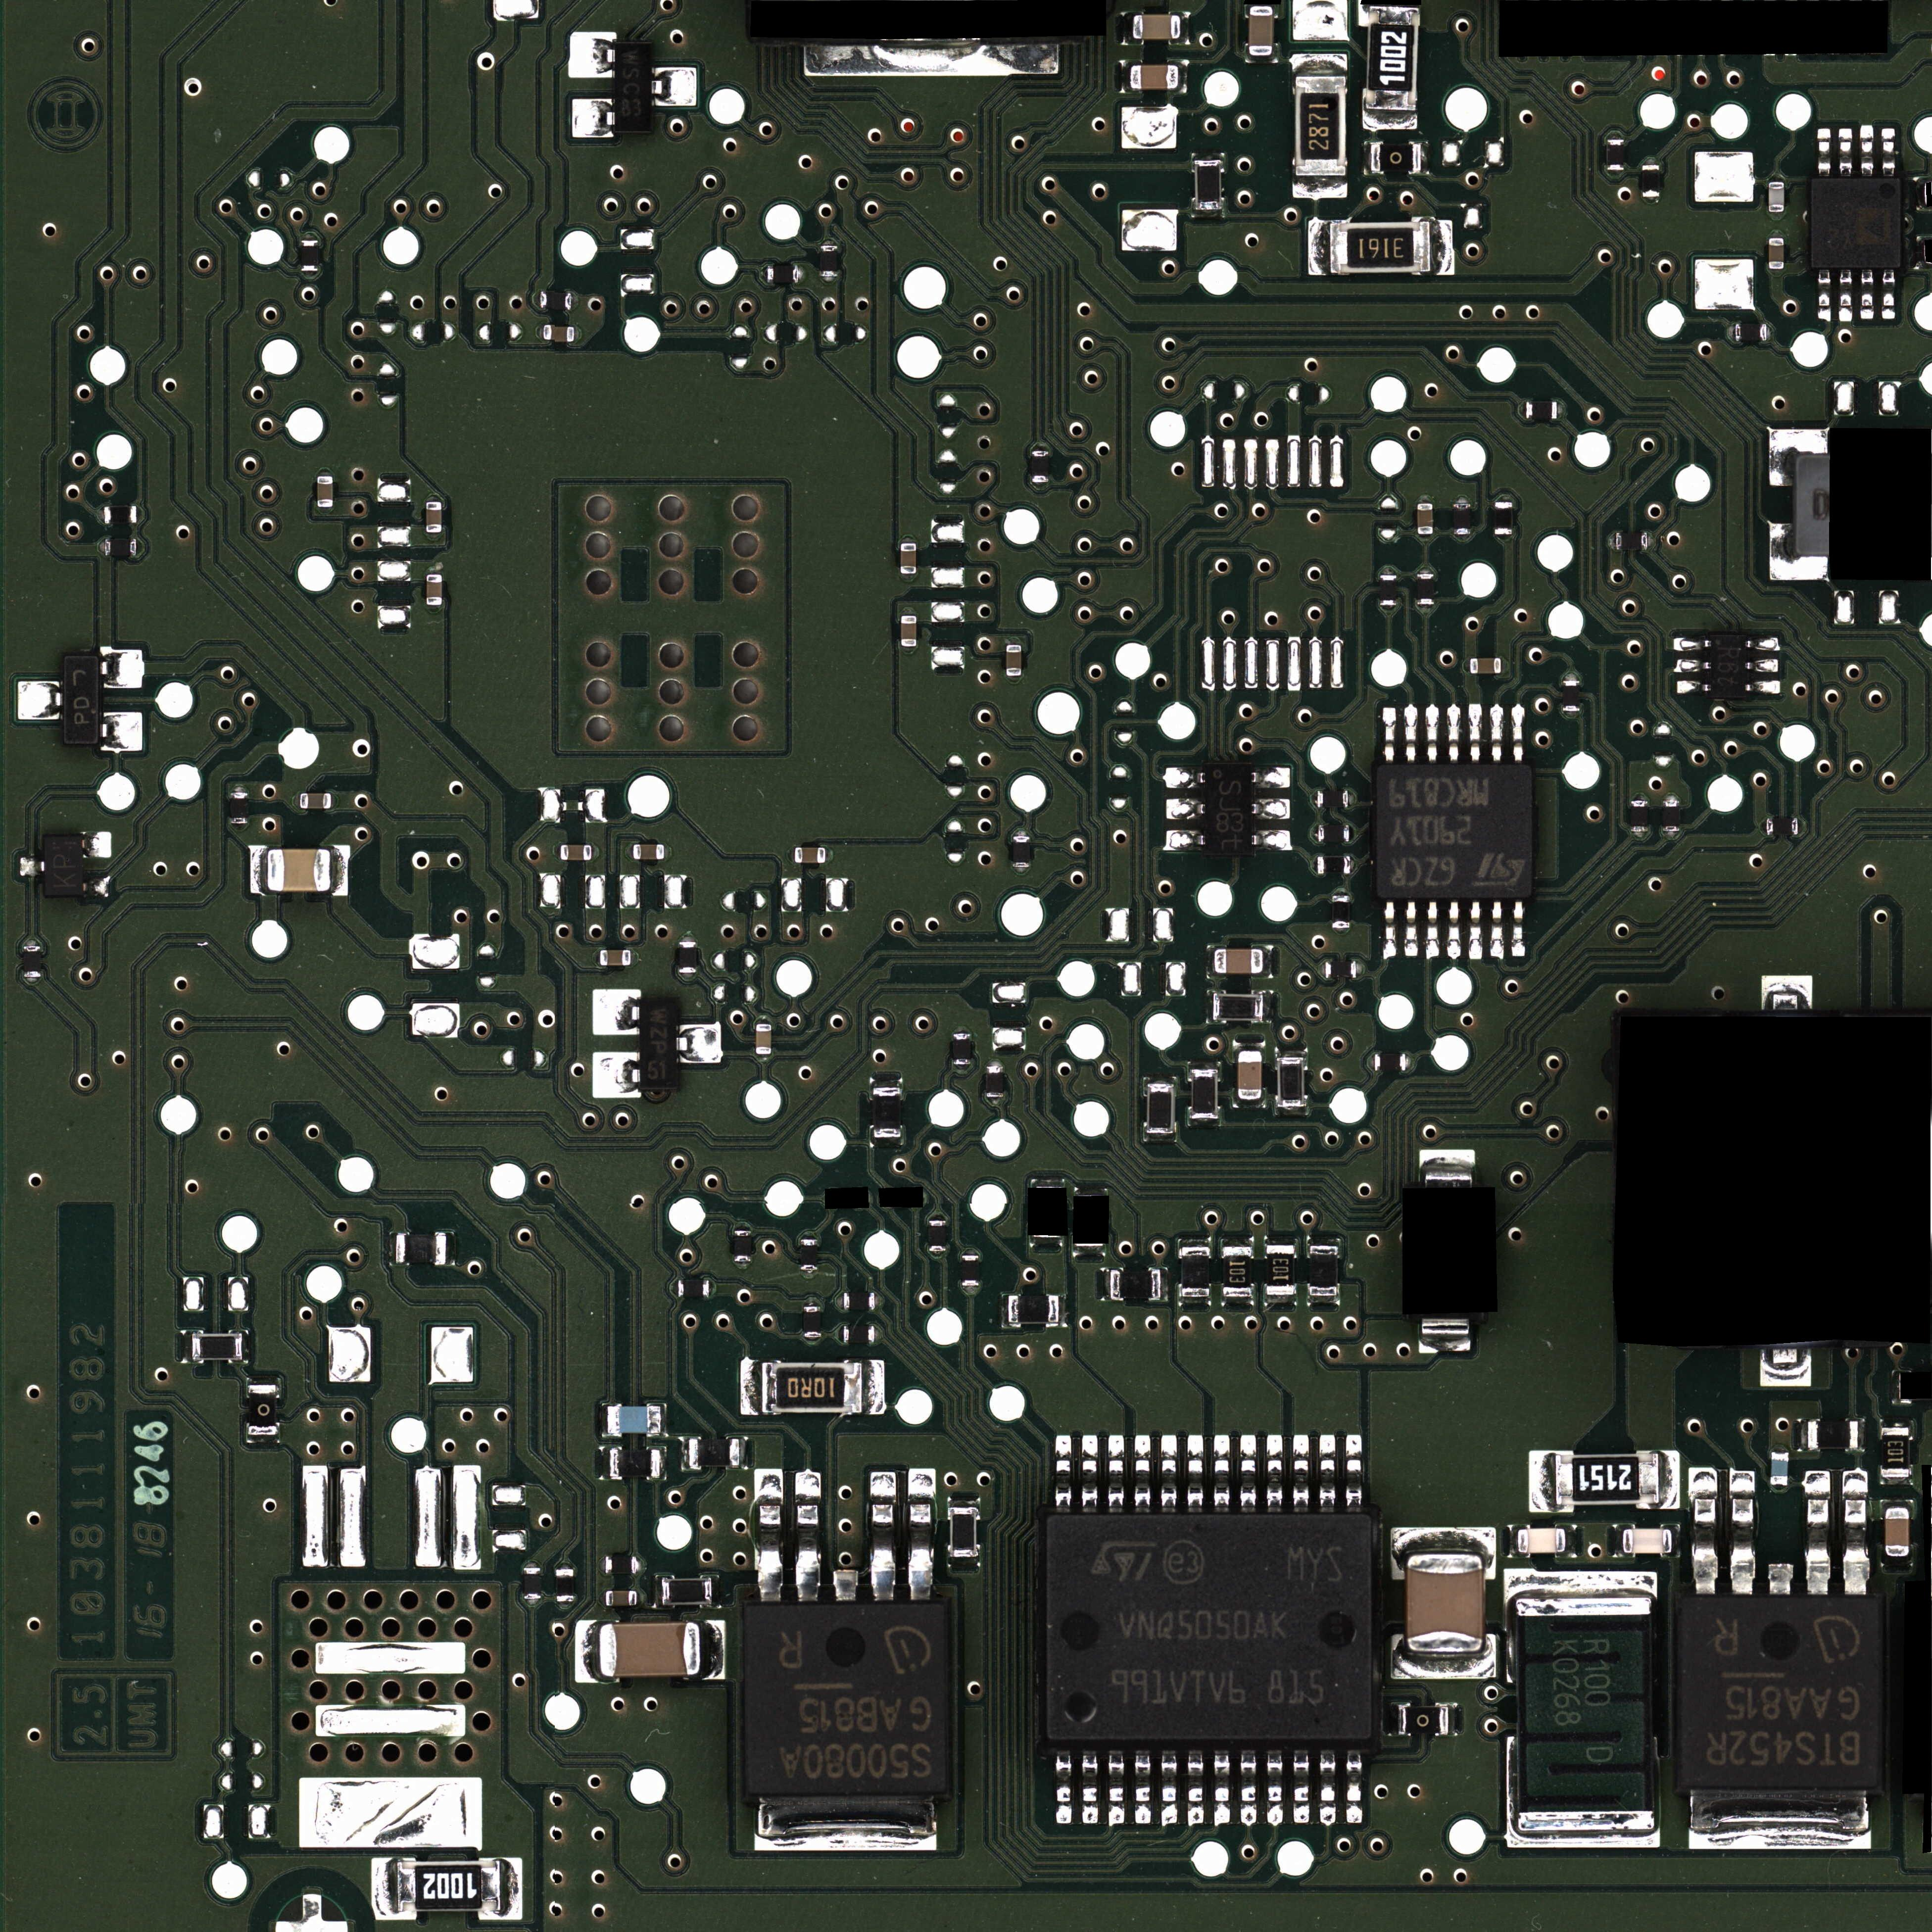Package: (1046, 1513, 1373, 1741), (1681, 1596, 1879, 1789), (743, 1605, 945, 1794), (1516, 1598, 1654, 1829), (1375, 763, 1534, 899), (1810, 177, 1902, 269), (1407, 1555, 1484, 1652), (1366, 5, 1421, 110), (1557, 1453, 1658, 1506), (400, 1861, 499, 1914), (600, 1622, 699, 1675), (1330, 221, 1430, 272), (763, 1362, 860, 1412), (1295, 78, 1345, 175), (1205, 764, 1251, 855), (639, 1000, 678, 1090), (614, 42, 651, 133), (64, 656, 99, 745), (267, 849, 331, 892), (44, 835, 81, 897), (1711, 633, 1744, 697), (396, 1233, 446, 1263), (248, 1385, 278, 1435), (609, 1405, 660, 1433), (690, 1438, 740, 1467), (872, 1088, 901, 1138), (610, 1449, 660, 1477), (1371, 143, 1421, 172), (1808, 1421, 1858, 1449), (1267, 1246, 1295, 1295), (1008, 1295, 1058, 1323), (1111, 1270, 1161, 1299), (1309, 1246, 1338, 1295), (1399, 1706, 1449, 1734), (1223, 1247, 1251, 1295), (950, 1507, 977, 1557), (662, 1578, 711, 1605), (1882, 1428, 1909, 1477), (1214, 994, 1263, 1021), (1182, 1247, 1208, 1297), (1132, 14, 1180, 41), (1146, 1085, 1173, 1132), (1191, 1070, 1217, 1118), (193, 1334, 242, 1359), (1196, 161, 1221, 209), (1624, 1529, 1672, 1553), (1279, 1058, 1304, 1106), (1215, 948, 1261, 973), (1518, 1529, 1564, 1553), (1249, 5, 1272, 55), (1131, 65, 1178, 88), (1886, 1507, 1909, 1555), (1238, 1051, 1261, 1099), (1493, 501, 1514, 534), (1030, 449, 1049, 483), (301, 239, 320, 271), (678, 941, 697, 973), (556, 1569, 575, 1601), (605, 1555, 637, 1575), (952, 1033, 971, 1065), (985, 1065, 1005, 1097), (732, 1230, 752, 1261), (1012, 835, 1031, 867), (230, 791, 248, 824), (1332, 895, 1350, 929), (1615, 533, 1649, 550), (1734, 324, 1767, 341), (104, 506, 136, 524), (821, 244, 839, 276), (961, 1254, 978, 1286), (678, 1279, 709, 1297), (844, 1292, 876, 1309), (803, 1306, 821, 1338), (524, 1568, 541, 1599), (23, 945, 41, 977), (800, 1238, 817, 1270), (1318, 856, 1350, 874), (1325, 961, 1357, 978), (1525, 402, 1557, 419), (1318, 824, 1350, 842), (1453, 502, 1470, 534), (1562, 679, 1580, 711), (1766, 817, 1798, 835), (1642, 165, 1660, 196), (1316, 789, 1348, 807), (1606, 138, 1624, 170), (1771, 1453, 1789, 1484), (929, 1219, 947, 1251), (425, 502, 442, 533), (541, 292, 571, 310), (844, 1325, 874, 1343), (104, 540, 136, 556), (794, 847, 826, 863), (543, 326, 575, 341), (317, 476, 333, 508), (1663, 800, 1679, 832), (1631, 800, 1647, 832), (1375, 1054, 1407, 1070), (561, 844, 591, 860), (901, 543, 916, 573), (426, 575, 442, 605), (901, 616, 916, 646), (633, 844, 663, 860), (600, 950, 630, 966), (301, 793, 331, 809), (755, 1024, 771, 1054), (1380, 575, 1396, 605), (1470, 658, 1500, 674), (1767, 239, 1783, 269), (1417, 504, 1433, 534), (1417, 573, 1433, 603), (1005, 646, 1021, 676), (607, 1591, 635, 1605), (1769, 182, 1783, 211)
Solder: (1688, 1789, 1872, 1849), (755, 1794, 938, 1851), (803, 44, 1060, 76), (1504, 1568, 1658, 1598), (755, 1470, 784, 1601), (1767, 428, 1829, 487), (1767, 522, 1829, 580), (794, 1470, 821, 1601), (908, 1468, 934, 1599), (870, 1472, 897, 1601), (1691, 1467, 1718, 1596), (1842, 1470, 1868, 1596), (1805, 1472, 1831, 1596), (1730, 1470, 1755, 1596), (1391, 1527, 1497, 1553), (1391, 1654, 1497, 1679), (1507, 1831, 1661, 1847), (593, 1051, 640, 1099), (593, 989, 640, 1035), (1417, 1148, 1477, 1184), (570, 32, 614, 78), (1759, 1348, 1812, 1385), (678, 1023, 722, 1063), (101, 711, 143, 752), (571, 97, 614, 138), (1762, 975, 1813, 1008), (18, 681, 62, 720), (653, 67, 697, 106), (101, 649, 143, 688), (701, 1621, 725, 1681), (1417, 1323, 1472, 1350), (373, 1858, 396, 1920), (1530, 1451, 1553, 1513), (1054, 1435, 1072, 1513), (1081, 1435, 1099, 1513), (1240, 1752, 1258, 1828), (1134, 1435, 1152, 1511), (1292, 1435, 1309, 1511), (1240, 1435, 1258, 1511), (1161, 1435, 1178, 1511), (1318, 1435, 1336, 1511), (1345, 1435, 1362, 1511), (1265, 1435, 1283, 1511), (1108, 1435, 1125, 1511), (577, 1621, 598, 1683), (1293, 1752, 1311, 1826), (1134, 1752, 1152, 1826), (1214, 1752, 1231, 1826), (1161, 1752, 1178, 1826), (1187, 1752, 1205, 1826), (1108, 1752, 1125, 1826), (1267, 1752, 1284, 1826), (1081, 1753, 1099, 1826), (1345, 1752, 1362, 1824), (1214, 1435, 1230, 1511), (1187, 1435, 1203, 1511), (502, 1858, 522, 1920), (1292, 53, 1348, 74), (1431, 219, 1453, 276), (1320, 1752, 1336, 1826), (863, 1361, 885, 1415), (1293, 177, 1348, 198), (1056, 1753, 1072, 1826), (1660, 1451, 1679, 1509), (1309, 219, 1329, 276), (741, 1361, 761, 1415), (1362, 110, 1417, 129), (331, 844, 349, 897), (249, 846, 267, 895), (1164, 768, 1205, 789), (1468, 901, 1483, 961), (1468, 702, 1483, 763), (1424, 704, 1438, 763), (1166, 798, 1205, 819), (1403, 704, 1417, 763), (1447, 704, 1461, 763), (1490, 704, 1504, 763), (1490, 901, 1504, 959), (1447, 901, 1461, 959), (1426, 902, 1440, 959), (1384, 902, 1398, 959), (1405, 901, 1419, 957), (1511, 901, 1525, 957), (81, 832, 111, 858), (1767, 1564, 1794, 1594), (1164, 830, 1205, 849), (1253, 798, 1290, 819), (833, 1569, 858, 1601), (1253, 830, 1292, 849), (1838, 271, 1852, 322), (1253, 768, 1290, 787), (1511, 704, 1523, 763), (1384, 706, 1396, 763), (1881, 271, 1895, 320), (1859, 126, 1874, 175), (1859, 271, 1874, 320), (1817, 127, 1831, 175), (1881, 127, 1895, 175), (1838, 127, 1852, 175), (1819, 271, 1831, 322), (1674, 637, 1711, 651), (83, 878, 110, 897), (1744, 679, 1780, 694), (19, 856, 44, 876), (1746, 637, 1780, 651), (1746, 658, 1778, 672), (1675, 681, 1711, 694), (1675, 660, 1711, 672), (1120, 60, 1131, 94), (1263, 945, 1274, 978), (180, 1330, 191, 1362), (1122, 12, 1132, 44), (1449, 1704, 1460, 1736), (1566, 1525, 1576, 1557), (1030, 1178, 1065, 1187), (246, 1435, 280, 1444), (1191, 211, 1224, 219), (1798, 1419, 1806, 1453), (1916, 177, 1925, 211), (1074, 1187, 1108, 1196), (870, 1138, 902, 1146), (948, 1499, 980, 1507), (948, 1559, 980, 1568), (740, 1437, 748, 1468), (600, 1447, 609, 1479), (1178, 60, 1187, 92), (1180, 12, 1189, 44), (1421, 142, 1430, 173), (1145, 1076, 1177, 1085), (1276, 1049, 1307, 1058), (1178, 1237, 1210, 1246), (1307, 1237, 1339, 1246), (1221, 1237, 1253, 1246), (1145, 1134, 1177, 1143), (1265, 1237, 1297, 1246), (1307, 1297, 1339, 1306), (1100, 1269, 1109, 1300), (1233, 1042, 1265, 1051), (1189, 1120, 1221, 1129), (1265, 1295, 1297, 1304), (1263, 991, 1272, 1023), (1058, 1295, 1067, 1327), (1389, 1704, 1398, 1736), (1614, 1525, 1622, 1557), (1881, 1499, 1913, 1507), (1881, 1557, 1913, 1566), (1509, 1525, 1518, 1557), (248, 1376, 278, 1385), (1223, 1297, 1253, 1306), (1276, 1108, 1306, 1116), (1180, 1297, 1210, 1306), (1881, 1419, 1911, 1428), (1074, 1246, 1104, 1254), (1235, 1099, 1263, 1108), (448, 1231, 455, 1265), (600, 1403, 607, 1437), (662, 1403, 669, 1437), (1364, 142, 1371, 175), (1207, 945, 1214, 978), (1161, 1267, 1168, 1300), (1916, 235, 1923, 269), (1891, 1371, 1898, 1405), (242, 1330, 249, 1362), (387, 1233, 395, 1265), (870, 1079, 902, 1086), (681, 1438, 688, 1470), (711, 1575, 718, 1606), (660, 1447, 667, 1479), (1192, 152, 1224, 159), (1207, 991, 1214, 1023), (1672, 1525, 1679, 1557), (1881, 1477, 1913, 1484), (655, 1576, 662, 1606), (1189, 1062, 1219, 1069), (1031, 1237, 1062, 1244), (1001, 1293, 1007, 1327), (1859, 1419, 1865, 1453), (1249, 55, 1274, 62), (1661, 832, 1681, 840), (136, 538, 145, 556), (803, 1297, 821, 1306), (1031, 442, 1049, 451), (1557, 402, 1566, 419), (1606, 131, 1624, 140), (1495, 494, 1513, 502), (1562, 671, 1580, 679), (1010, 867, 1031, 874), (426, 494, 442, 502), (426, 566, 442, 575), (1417, 495, 1433, 504), (1309, 824, 1318, 840), (678, 934, 697, 941), (678, 973, 697, 980), (961, 1286, 980, 1293), (1030, 483, 1049, 490), (1629, 833, 1649, 840), (97, 506, 104, 524), (136, 506, 143, 524), (23, 938, 41, 945), (230, 824, 248, 832), (23, 977, 41, 984), (671, 1279, 678, 1297), (954, 1026, 971, 1033), (837, 1325, 844, 1343), (556, 1562, 573, 1569), (524, 1560, 541, 1568), (556, 1601, 573, 1608), (639, 1557, 646, 1575), (1378, 605, 1396, 612), (1380, 568, 1398, 575), (1318, 961, 1325, 978), (1417, 566, 1435, 573), (1332, 888, 1350, 895), (985, 1097, 1003, 1104), (1642, 196, 1660, 203), (1518, 402, 1525, 419), (1642, 157, 1660, 165), (1767, 324, 1775, 341), (1606, 170, 1624, 177), (1727, 324, 1734, 341), (1631, 793, 1649, 800), (1562, 711, 1580, 718), (1771, 1445, 1789, 1453), (1771, 1484, 1789, 1491), (317, 469, 333, 476), (301, 234, 317, 241), (97, 540, 104, 556), (292, 793, 299, 809), (232, 784, 248, 791), (821, 239, 837, 246), (571, 294, 579, 310), (901, 609, 916, 616), (591, 844, 598, 860), (901, 536, 916, 543), (787, 847, 794, 863), (626, 844, 633, 860), (901, 646, 916, 653), (929, 1251, 945, 1258), (874, 1327, 881, 1343), (929, 1214, 945, 1221), (876, 1293, 883, 1309), (734, 1223, 750, 1230), (734, 1261, 750, 1269), (835, 1293, 842, 1309), (800, 1270, 816, 1277), (1350, 791, 1357, 807), (1357, 961, 1364, 977), (1454, 534, 1470, 541), (1759, 819, 1766, 835), (1663, 793, 1679, 800), (1463, 658, 1470, 674), (1500, 658, 1507, 674), (952, 1065, 971, 1070), (824, 847, 832, 862), (301, 272, 318, 278), (315, 508, 333, 513), (803, 1338, 821, 1343), (709, 1279, 715, 1297), (524, 1599, 541, 1605), (1012, 830, 1030, 835), (1332, 929, 1350, 934), (1350, 824, 1355, 842), (1417, 605, 1435, 610), (1352, 856, 1357, 874), (1495, 534, 1513, 540), (426, 533, 442, 538), (426, 605, 442, 610), (331, 793, 336, 809), (821, 278, 837, 283), (575, 326, 580, 341), (534, 292, 540, 308), (556, 844, 561, 860), (632, 950, 637, 966), (594, 950, 600, 966), (663, 844, 669, 860), (755, 1054, 771, 1060), (962, 1249, 978, 1254), (600, 1591, 605, 1606), (637, 1591, 642, 1606), (600, 1557, 605, 1573), (1311, 791, 1316, 807), (1005, 639, 1021, 644), (1417, 534, 1433, 540), (1311, 856, 1316, 872), (1368, 1054, 1373, 1070), (1407, 1054, 1412, 1070), (1454, 497, 1470, 502), (1647, 533, 1652, 548), (1610, 533, 1615, 548), (538, 326, 543, 340), (801, 1233, 816, 1238), (1007, 676, 1021, 681), (987, 1060, 1001, 1065), (1769, 177, 1783, 182), (1769, 232, 1783, 237), (1769, 269, 1783, 274), (1769, 212, 1783, 218), (1798, 819, 1803, 833), (901, 575, 916, 579), (757, 1019, 771, 1023)
